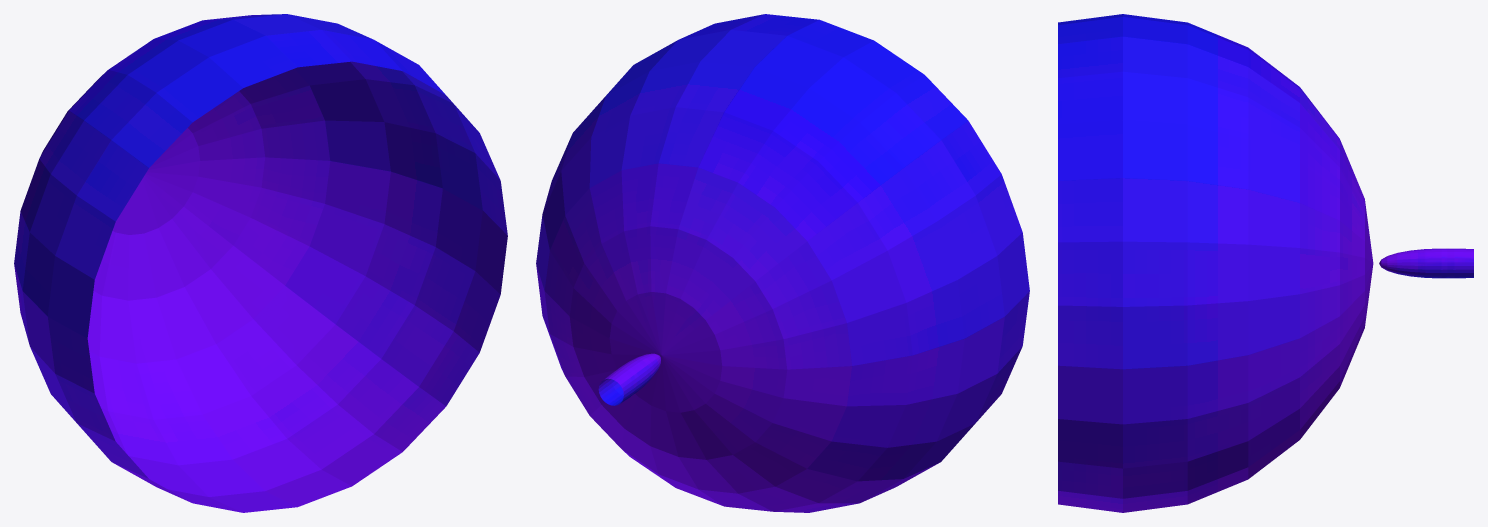
The model's file is proj_BP_01.fbx.
3 renders of one model, left to right at view 1: azimuth 30°, elevation 25°; view 2: azimuth 150°, elevation 25°; view 3: azimuth 270°, elevation 25°, orthographic.
Visible parts, largest first — view 1: GameObject; view 2: GameObject (×3); view 3: GameObject (×3).
Part boxes in pixels (bbox=[...]): GameObject: bbox=[14, 14, 507, 512]; GameObject (×3): bbox=[536, 14, 1029, 512]; GameObject (×3): bbox=[1058, 14, 1473, 512].
Size of the model in its own units: 5.96 by 5.96 by 4.95.
